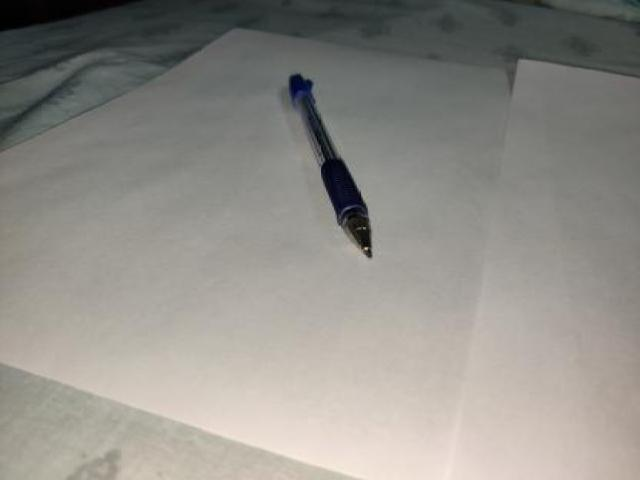PEN: (273, 64, 391, 269)
